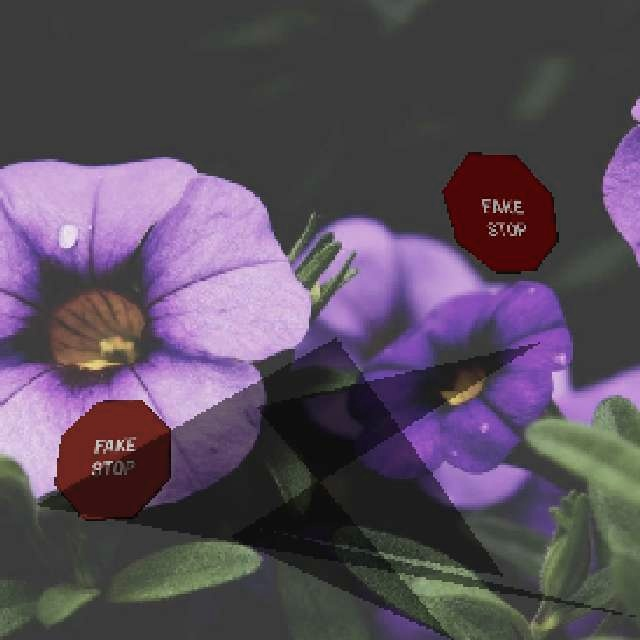FAKE_STOP: (52, 398, 170, 519), (440, 150, 556, 271)
